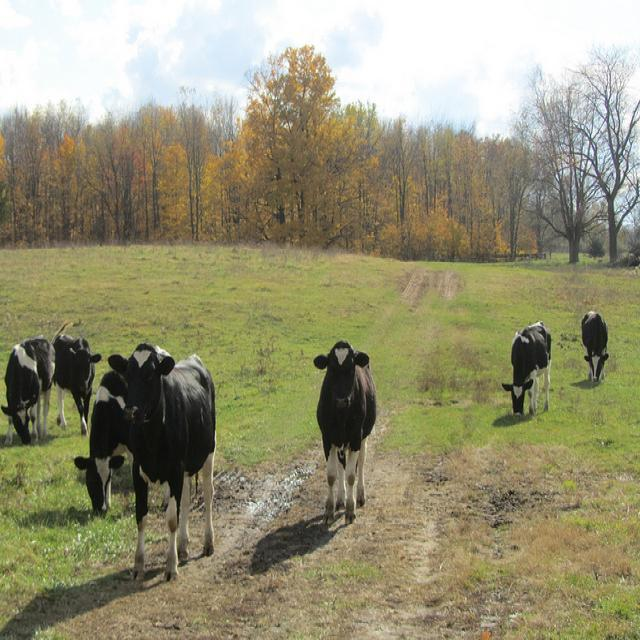cow: (108, 343, 215, 586), (308, 337, 377, 528), (0, 331, 100, 446), (75, 359, 133, 513), (499, 318, 550, 415), (579, 309, 608, 379)
